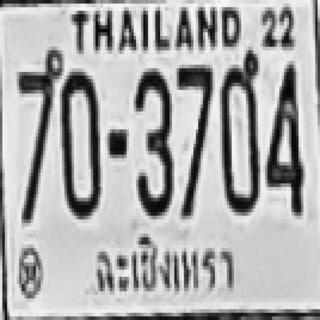N00: (220, 54, 258, 212), (61, 68, 99, 216)
N03: (134, 66, 172, 214)
N04: (265, 61, 301, 212)
N07: (17, 54, 57, 220), (176, 63, 211, 214), (176, 63, 211, 189), (176, 63, 211, 164)
P07: (88, 224, 240, 304)
